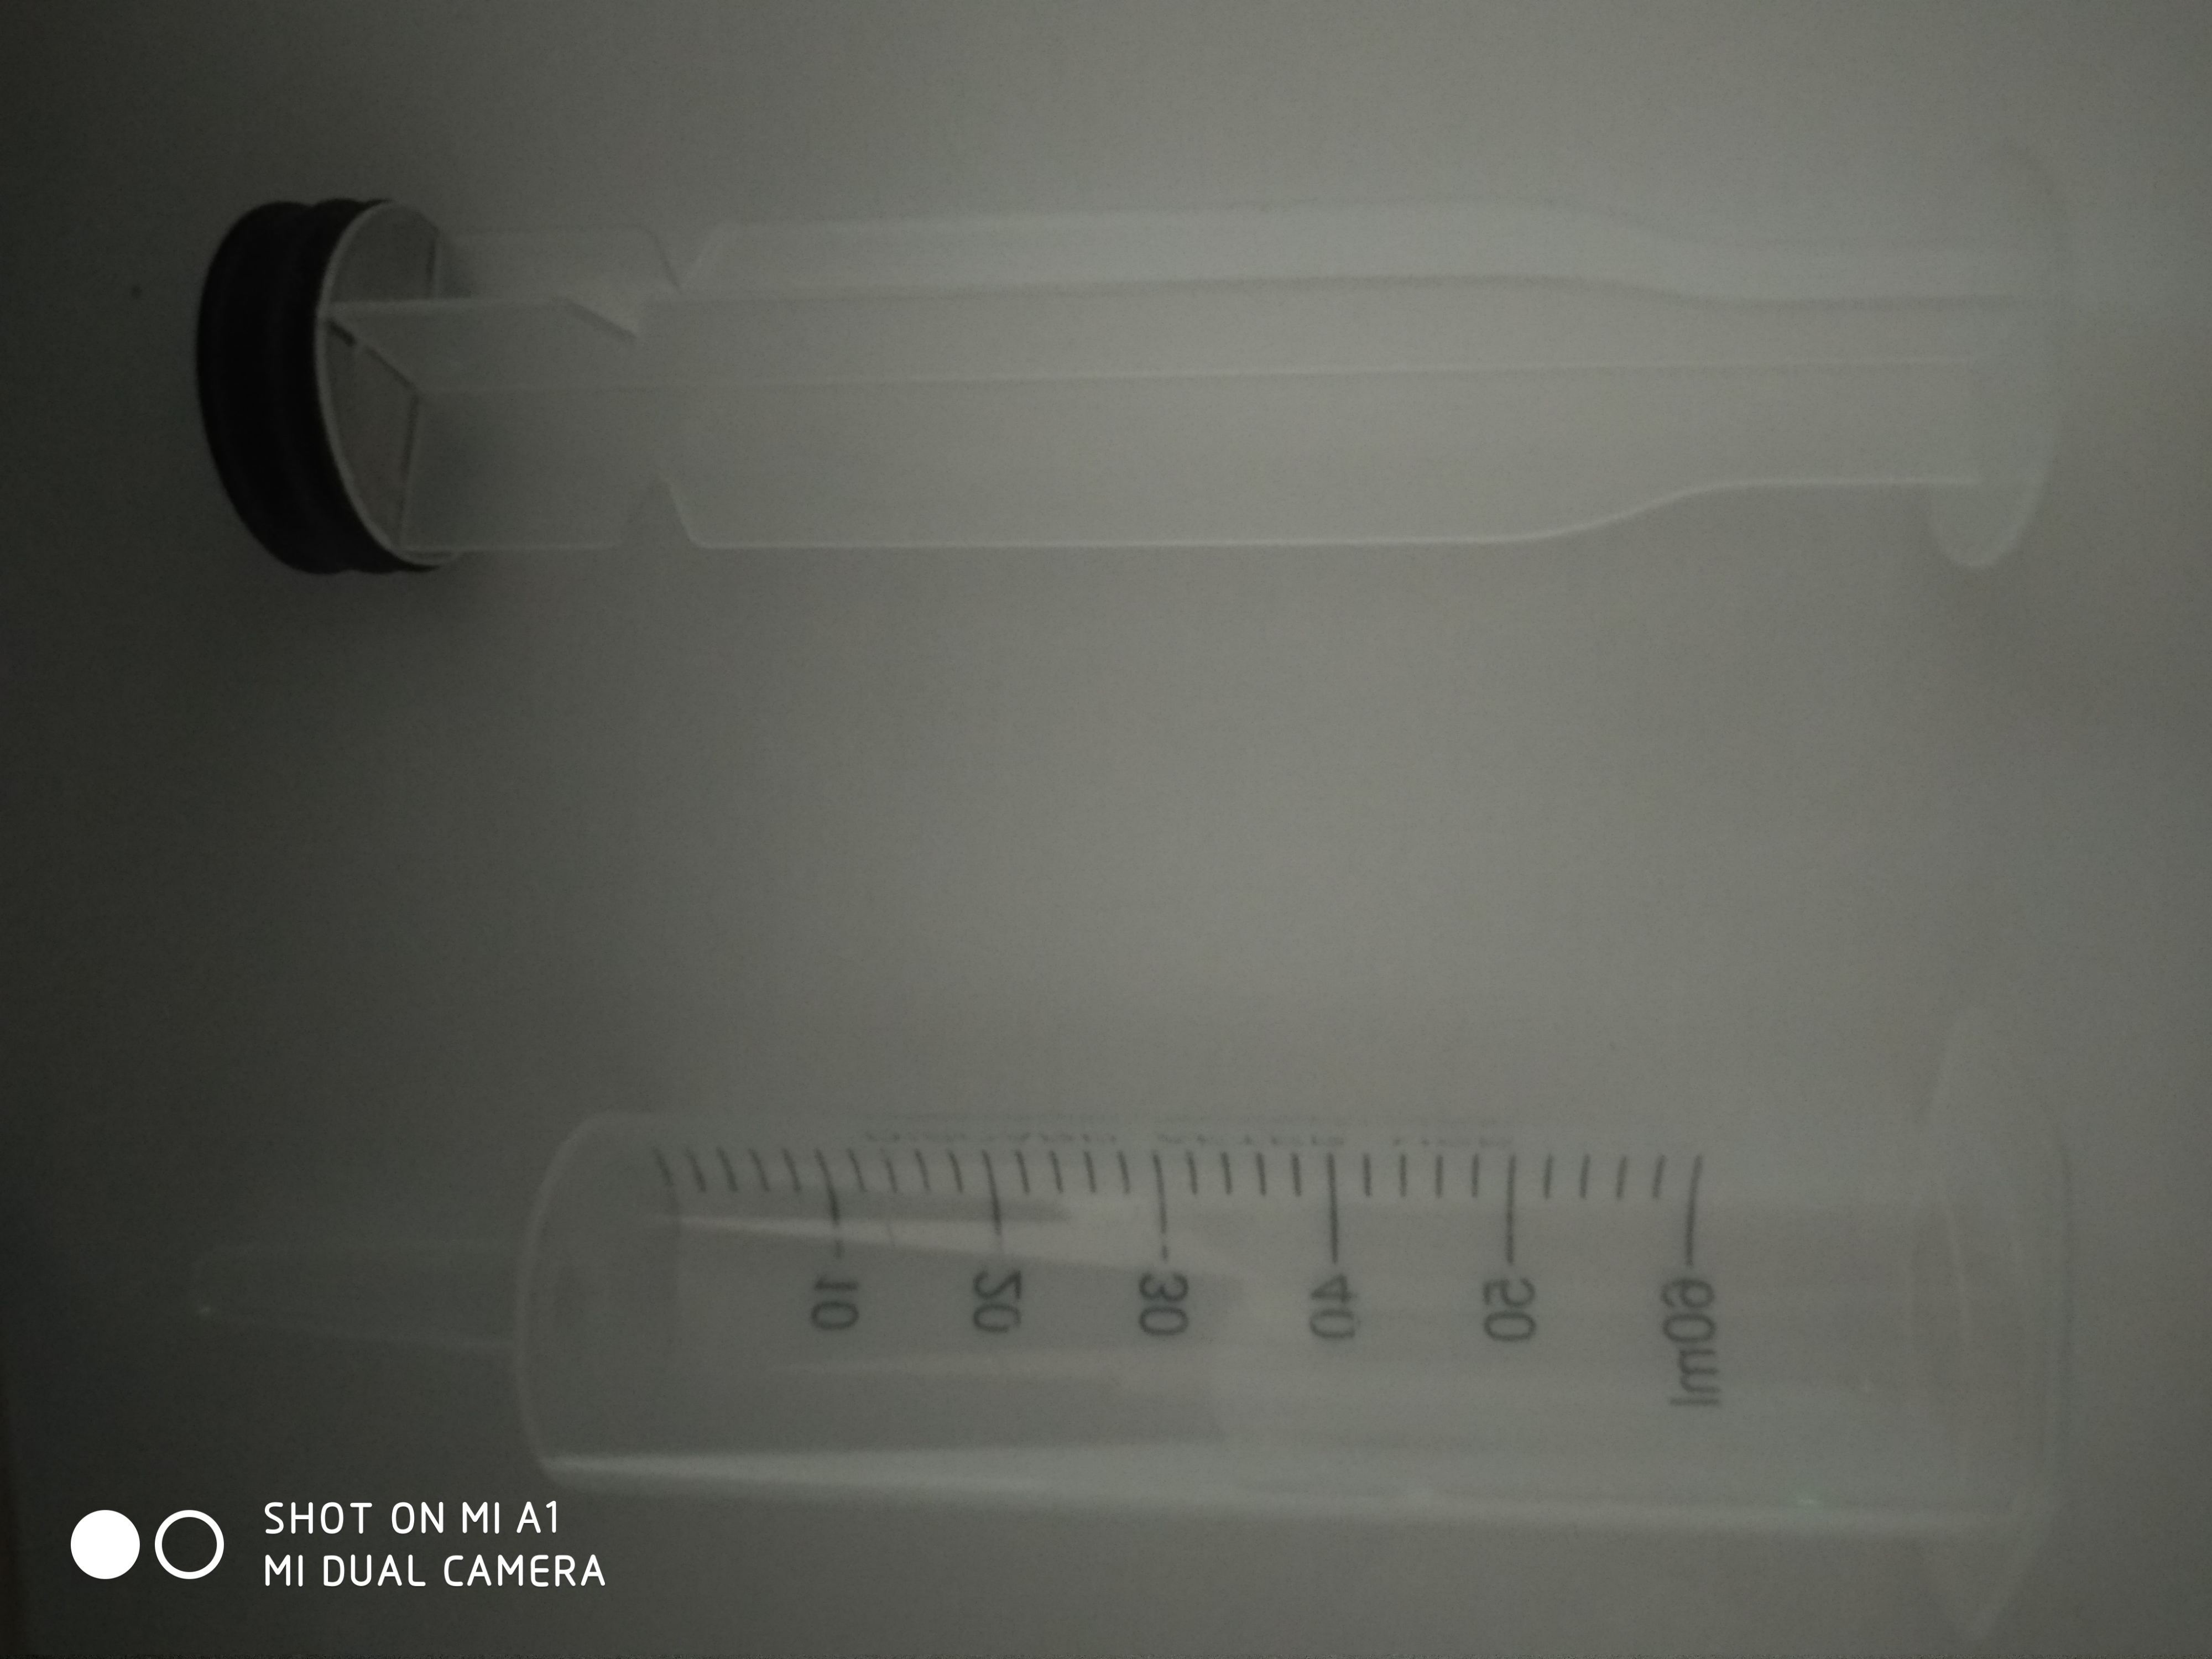plunger: (181, 124, 2097, 591)
syringe: (179, 997, 2113, 1643)
